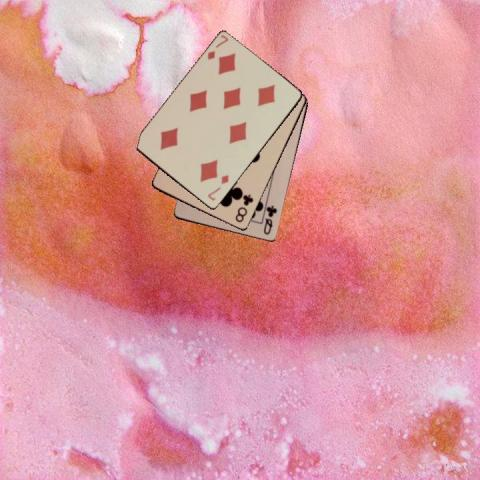7d: (204, 172, 230, 202), (205, 32, 230, 61)
8c: (232, 191, 255, 224)
Qc: (260, 203, 278, 236)
